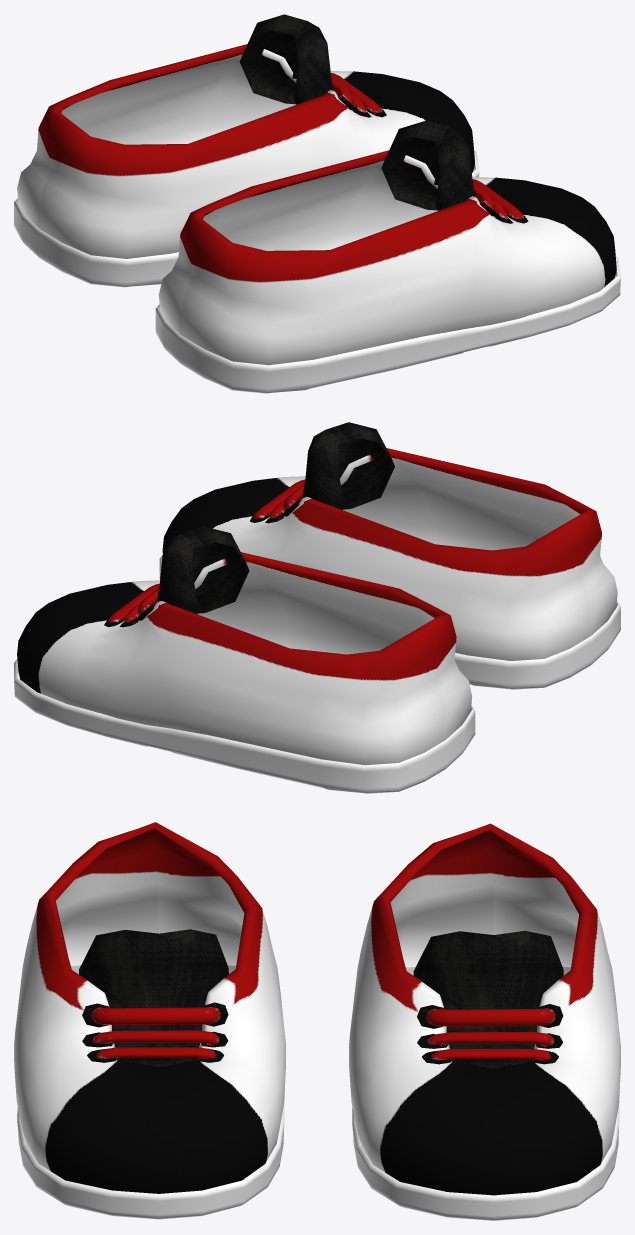
The model's file is shoes.fbx.
3 views of the same model, one above another, from view 1: azimuth 30°, elevation 25°; view 2: azimuth 150°, elevation 25°; view 3: azimuth 270°, elevation 25° (orthographic). The views are drawn at different scales.
Parts seen in each view (by area): view 1: shoe.001, shoe.002; view 2: shoe.002, shoe.001; view 3: shoe.002, shoe.001.
Part boxes in pixels (x1,y1,x2,y2): shoe.001: (155, 120, 620, 393); shoe.002: (14, 14, 479, 287); shoe.002: (14, 526, 475, 793); shoe.001: (159, 422, 620, 689); shoe.002: (349, 823, 620, 1220); shoe.001: (14, 822, 285, 1219).
Bounding box in the file's own units: 0.6028 × 0.2404 × 0.6406.
Materials: 1 (1 with a texture image).
